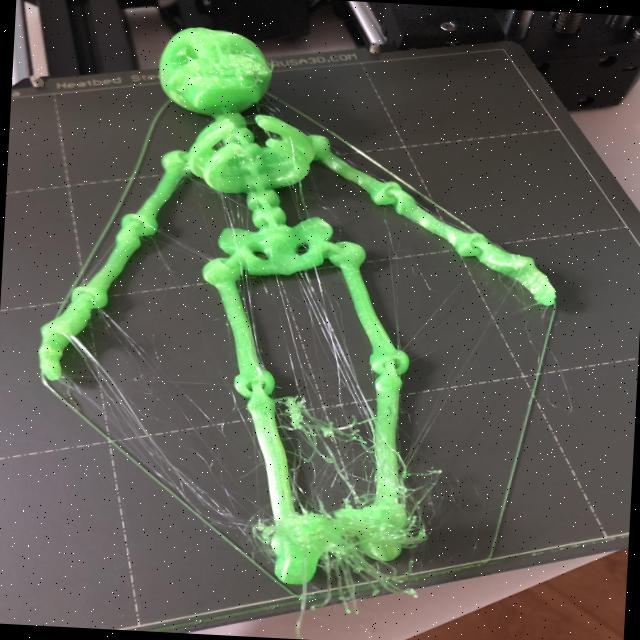stringing: (36, 336, 272, 560), (276, 291, 370, 506), (295, 272, 371, 435), (311, 530, 428, 629), (217, 191, 254, 229)
